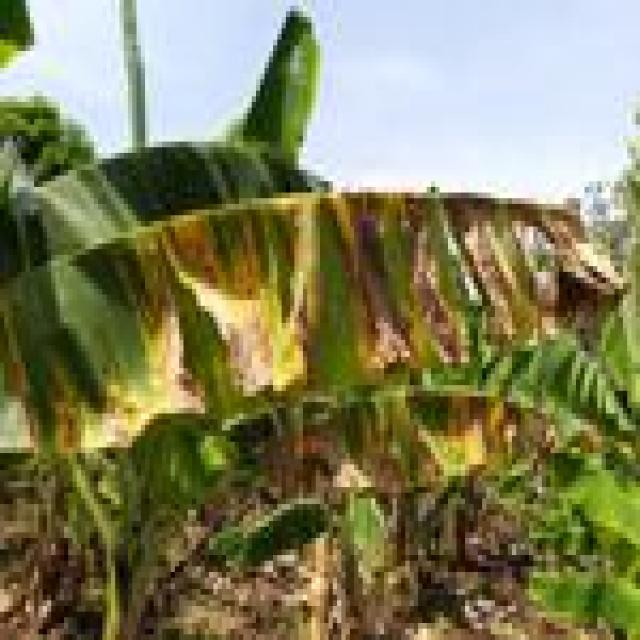Early_rust: (0, 147, 631, 555)
